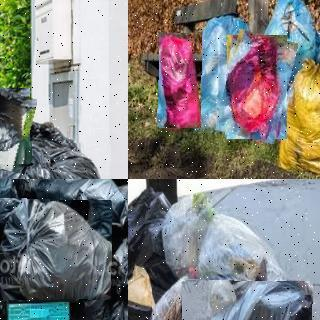Garbage: (0, 199, 111, 300), (220, 32, 293, 142), (193, 13, 251, 135), (273, 60, 320, 179), (180, 280, 311, 320), (15, 179, 122, 226), (255, 0, 319, 78), (0, 141, 121, 179), (158, 33, 202, 128), (78, 240, 128, 320), (0, 83, 33, 168)
